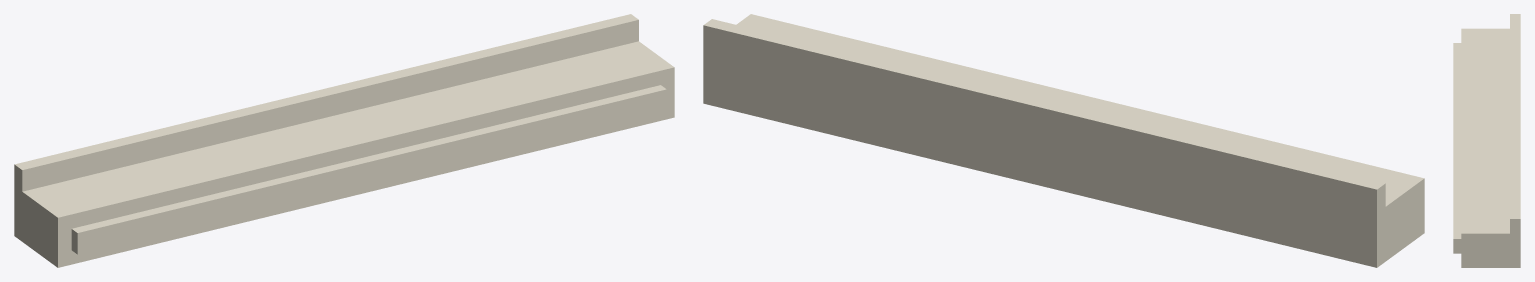
File: wall_light.fbx
The picture shows the model from 3 angles, left to right: view 1: azimuth 30°, elevation 25°; view 2: azimuth 150°, elevation 25°; view 3: azimuth 270°, elevation 25°; orthographic projection. The views are drawn at different scales.
Parts seen in each view (by area): view 1: wall_light; view 2: wall_light; view 3: wall_light.
Boxes of the visible parts, x1,y1,x2,y2 form: wall_light: (14,14,674,267); wall_light: (703,14,1424,267); wall_light: (1453,14,1520,267).
Bounding box in the file's own units: 90 × 10.3 × 12.5.
